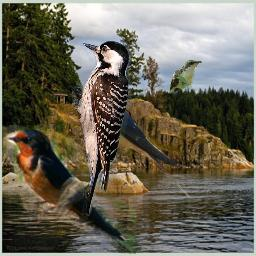Cuckoo: (169, 60, 202, 93)
Swallow: (3, 124, 136, 254), (95, 91, 190, 198)
Woodpecker: (72, 36, 132, 220)
